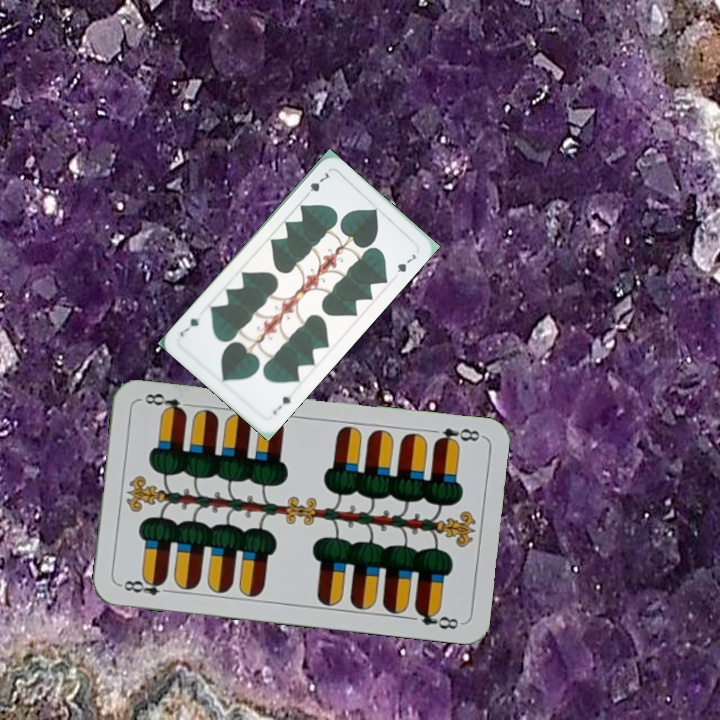E8: (116, 574, 175, 598), (430, 424, 484, 448)
G7: (300, 168, 331, 201), (269, 388, 297, 417)
